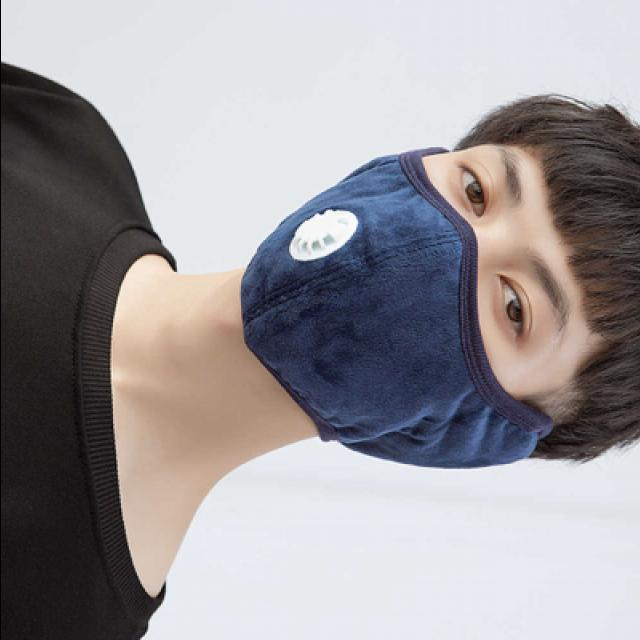with_mask: (230, 147, 580, 413)
